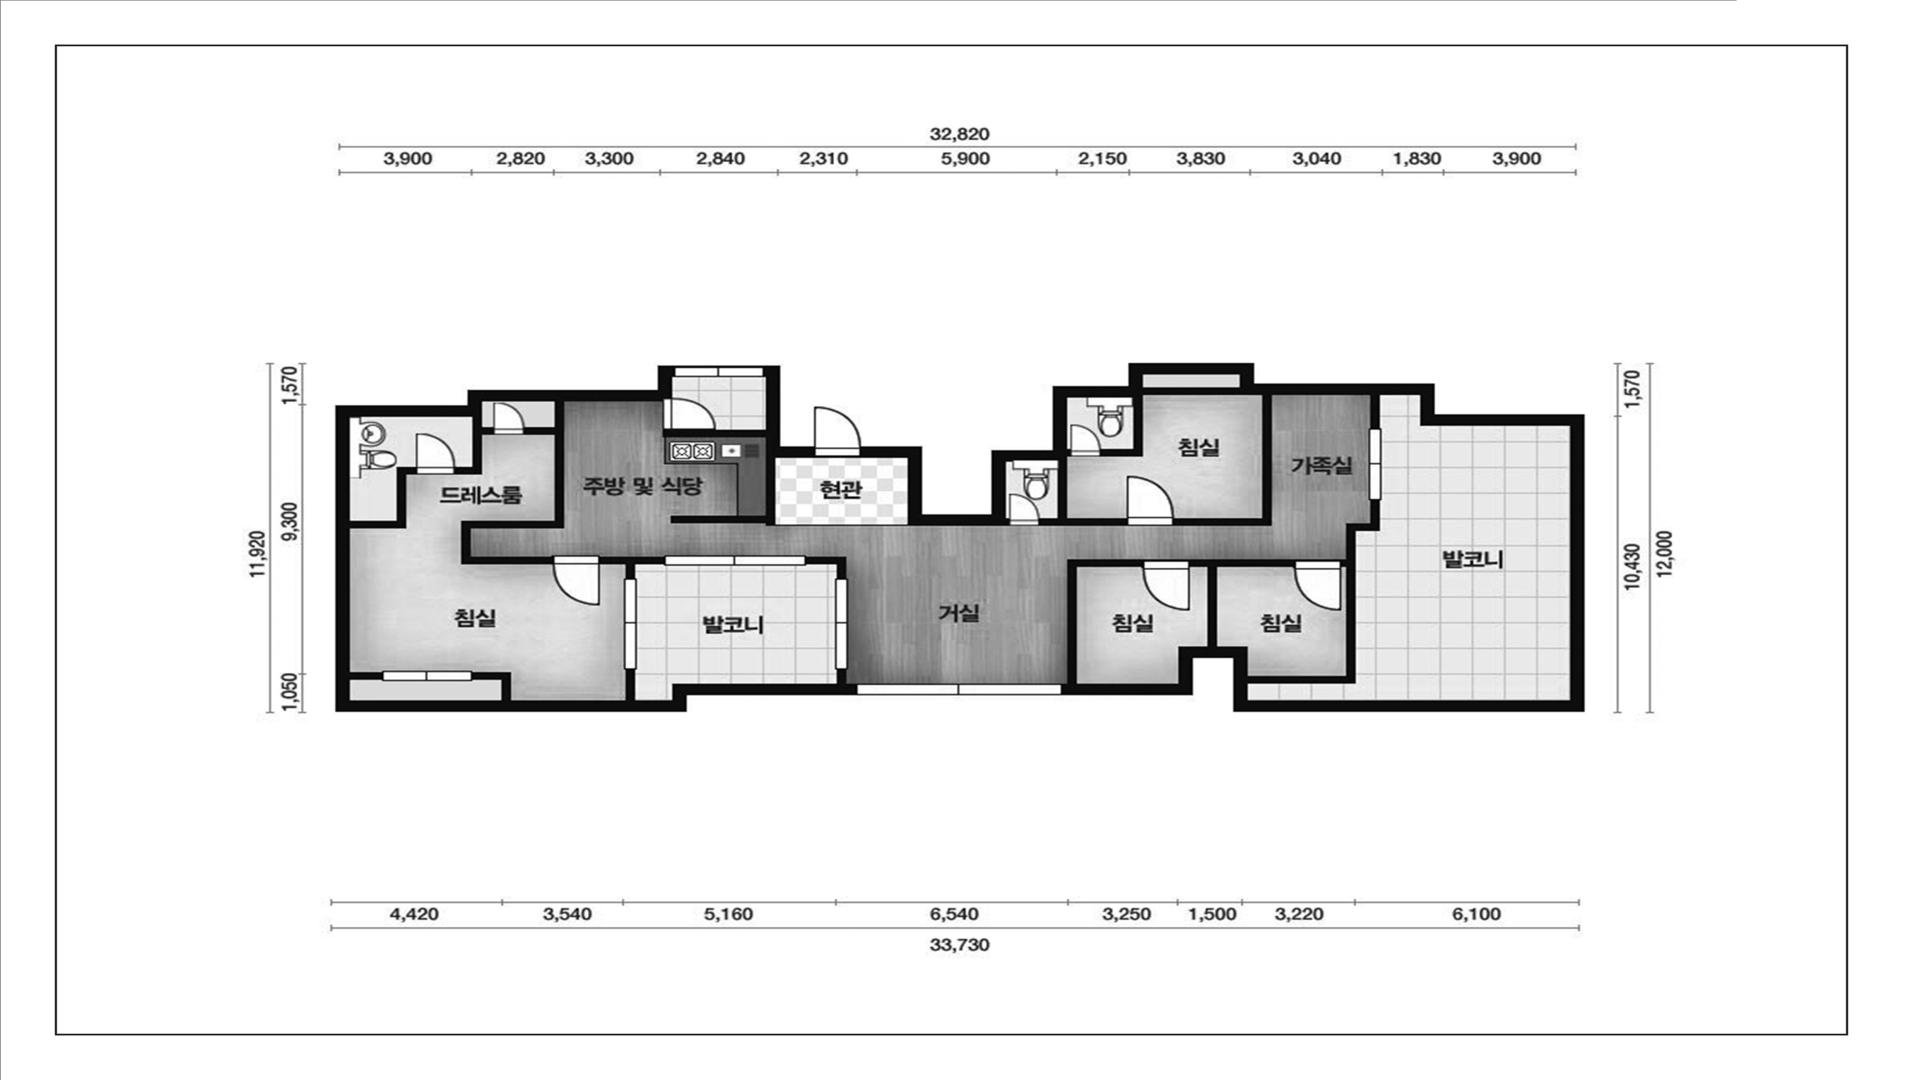door: (814, 406, 862, 458), (551, 555, 600, 607), (1294, 559, 1341, 611), (1127, 476, 1175, 526), (1143, 559, 1189, 609), (415, 433, 455, 475), (663, 401, 716, 429), (493, 402, 525, 435), (1007, 493, 1039, 526), (1068, 425, 1100, 456)
wall: (861, 363, 1585, 712), (336, 365, 857, 712), (1247, 500, 1381, 684), (462, 401, 564, 564), (1175, 396, 1273, 526), (1067, 559, 1143, 683), (1189, 559, 1294, 646), (670, 458, 775, 526), (1039, 460, 1127, 526), (764, 365, 814, 458), (349, 467, 417, 529), (1100, 397, 1143, 456), (454, 418, 495, 475), (599, 555, 666, 579), (472, 671, 512, 700), (806, 555, 847, 579), (662, 429, 765, 438), (1142, 386, 1240, 396), (1367, 396, 1381, 429), (624, 669, 637, 700), (351, 671, 384, 680), (836, 670, 848, 684)
window: (857, 683, 1062, 696), (666, 555, 806, 566), (835, 579, 848, 670), (624, 579, 637, 669), (674, 365, 764, 377), (1367, 429, 1381, 500), (384, 671, 472, 680)
